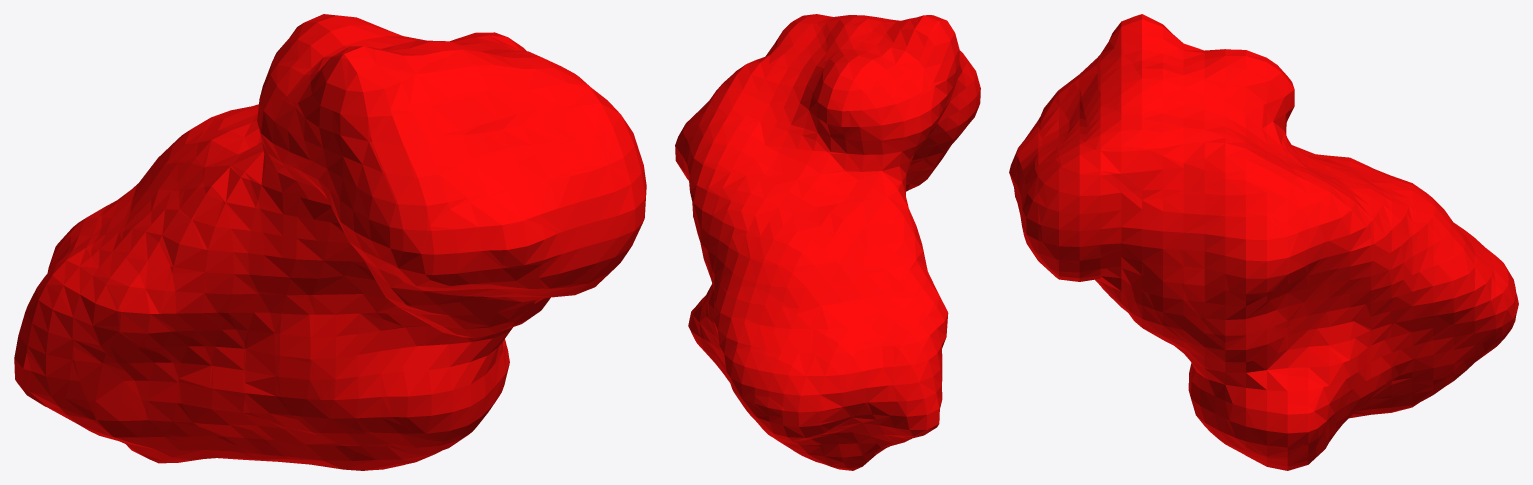
The model's file is lpxA_coarse.dae.
The picture shows the model from 3 angles, left to right: view 1: azimuth 30°, elevation 25°; view 2: azimuth 150°, elevation 25°; view 3: azimuth 270°, elevation 25°; orthographic projection. The views are drawn at different scales.
Parts seen in each view (by area): view 1: lpxA; view 2: lpxA; view 3: lpxA.
Boxes of the visible parts, <box> form: lpxA: <box>14,14,646,470</box>; lpxA: <box>675,14,980,470</box>; lpxA: <box>1009,14,1518,470</box>.
Size of the model in its own units: 50.67 by 55.47 by 63.53.
